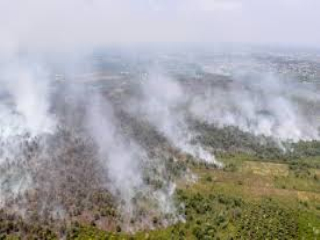smoke: (9, 72, 213, 231), (213, 58, 316, 148)
